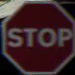Stop: (4, 3, 71, 65)
